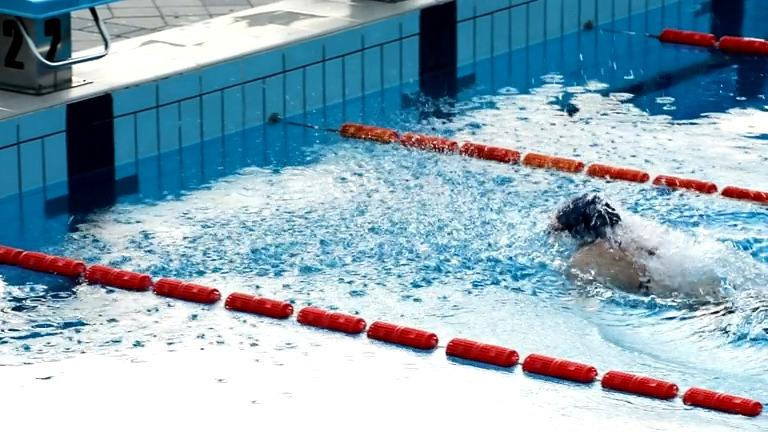Swimming: (544, 189, 732, 312)
